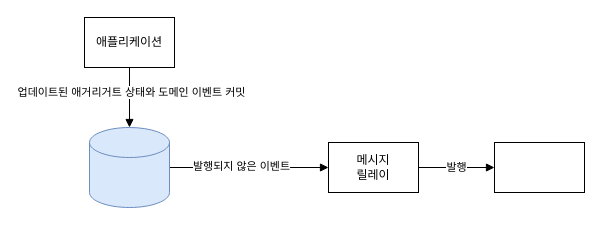
This 602x225 diagram has some shape labels left out. Here are the shapes that lost their labels. From the top down, the centre of each, then its label:
the point at 129,167: 실시간 데이터처리 DB
the point at 539,167: 메시지 버스
